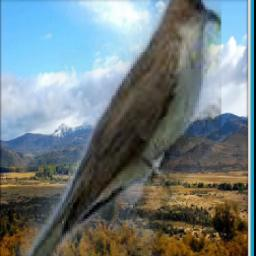Cuckoo: (16, 0, 222, 256)
